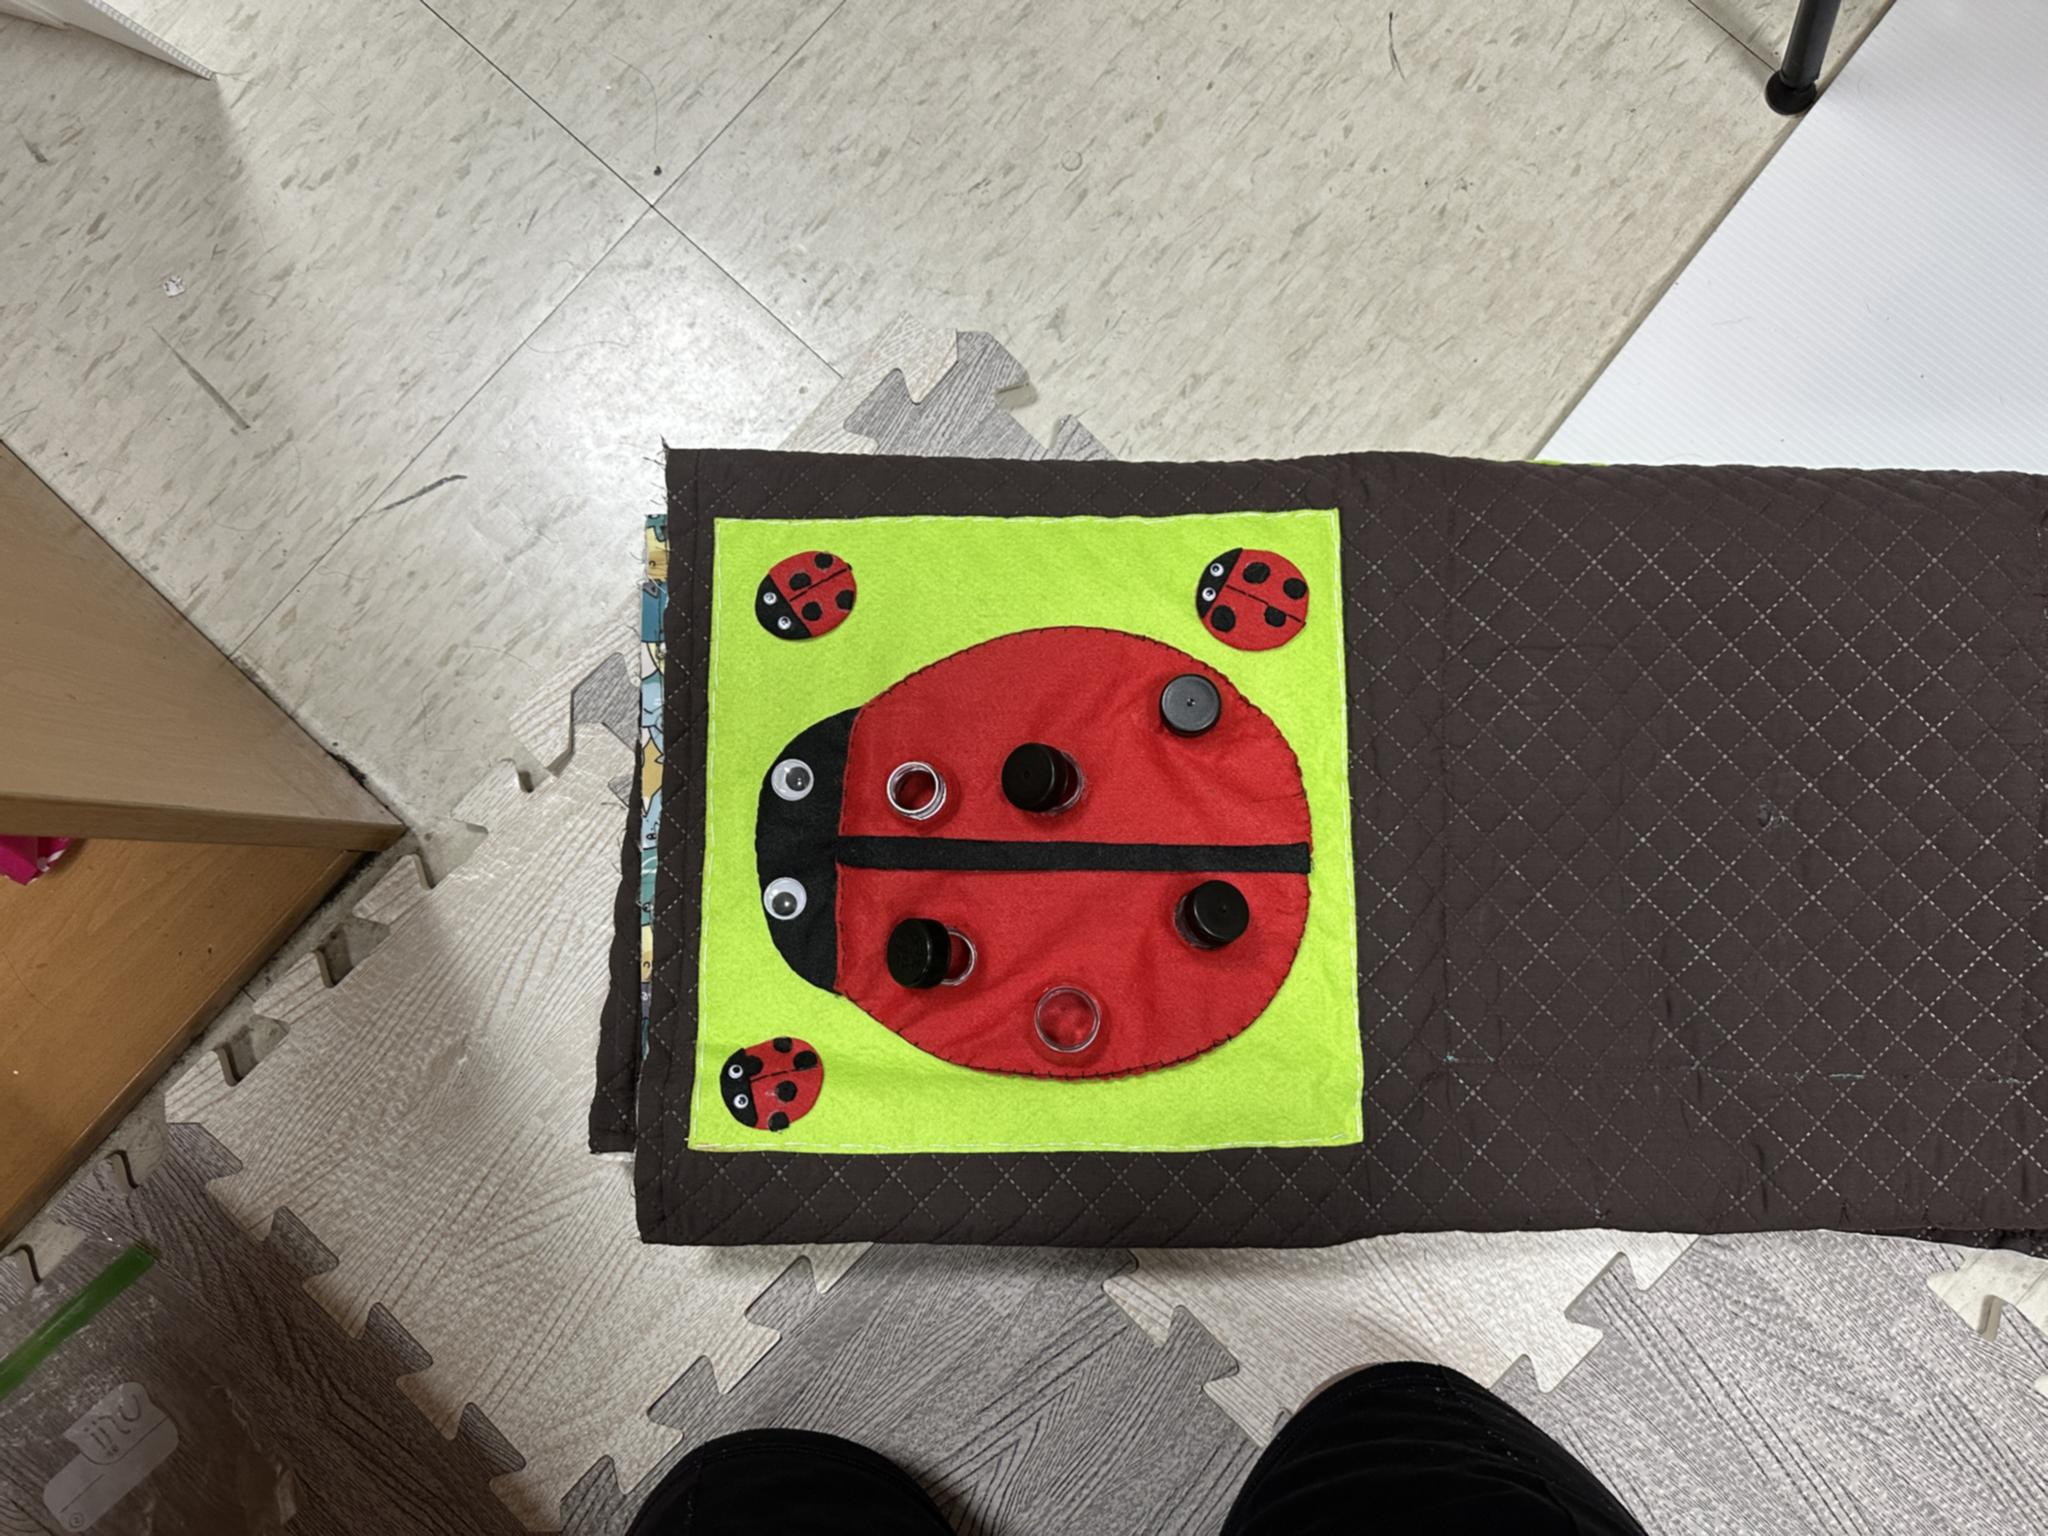cap_ng: (871, 904, 1005, 1007), (992, 729, 1103, 821), (1156, 874, 1258, 970)
cap_ok: (1151, 666, 1243, 747)
